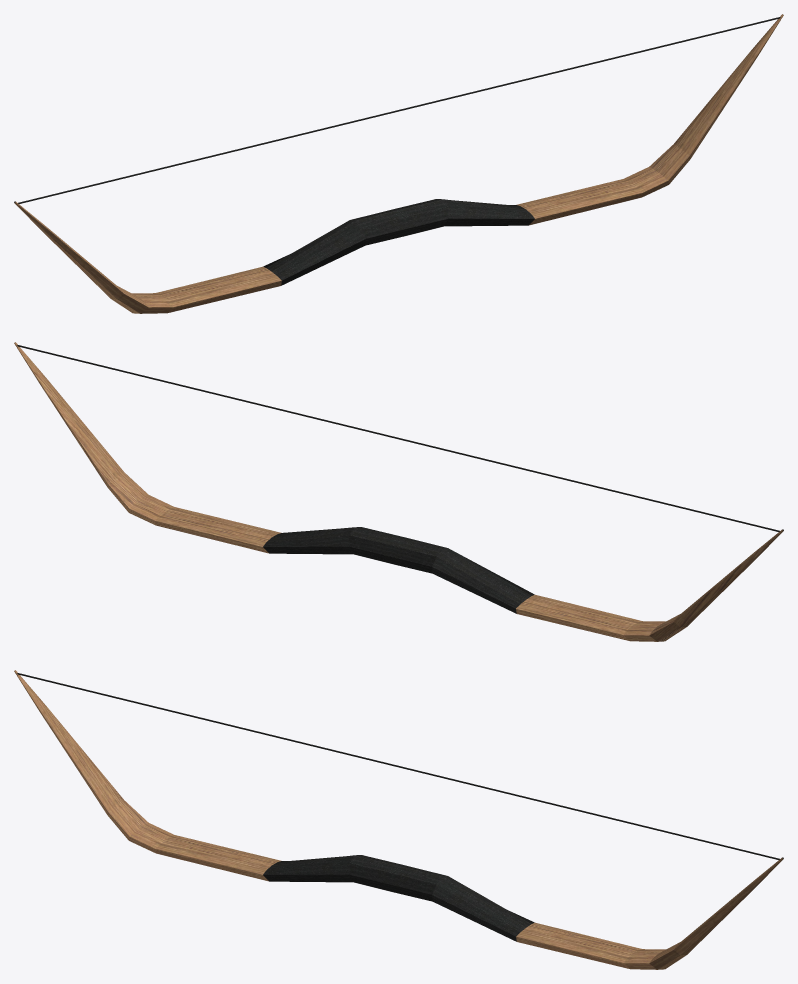
Rendered from Bow.fbx.
The picture shows the model from 3 angles, top to bottom: view 1: azimuth 30°, elevation 25°; view 2: azimuth 150°, elevation 25°; view 3: azimuth 330°, elevation 25°; orthographic projection.
Parts seen in each view (by area): view 1: Bow; view 2: Bow; view 3: Bow.
Part boxes in pixels (x1,y1,x2,y2): Bow: (14, 14, 783, 313); Bow: (14, 342, 783, 641); Bow: (14, 670, 783, 969).
Size of the model in its own units: 149 by 6.41 by 27.19.
2 materials, 2 textured.
